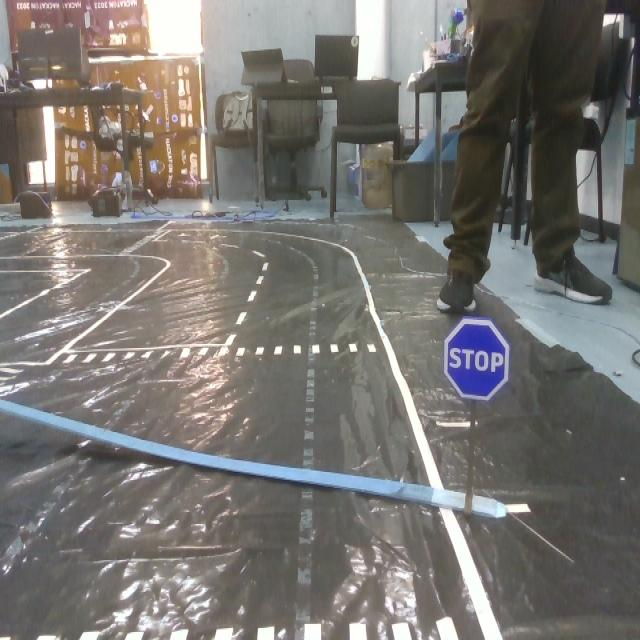no_entry: (443, 314, 515, 407)
